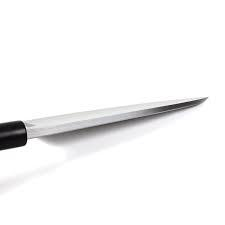Knife: (0, 95, 208, 155)
